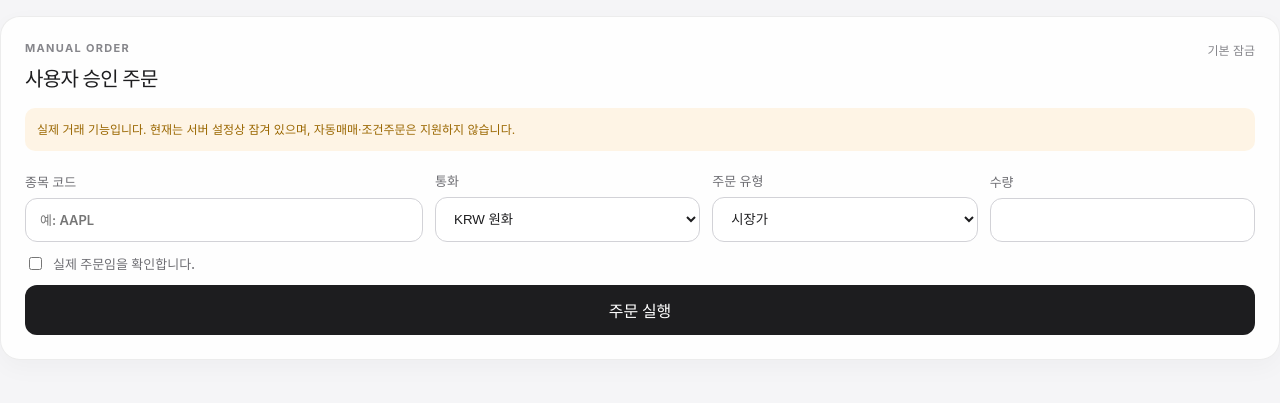
OrderExecutionPanel › requires an explicit confirmation before sending an order request
Step 1. Type "AAPL" into the field named "주문 종목 코드" → (224, 220), box [25, 198, 423, 242]
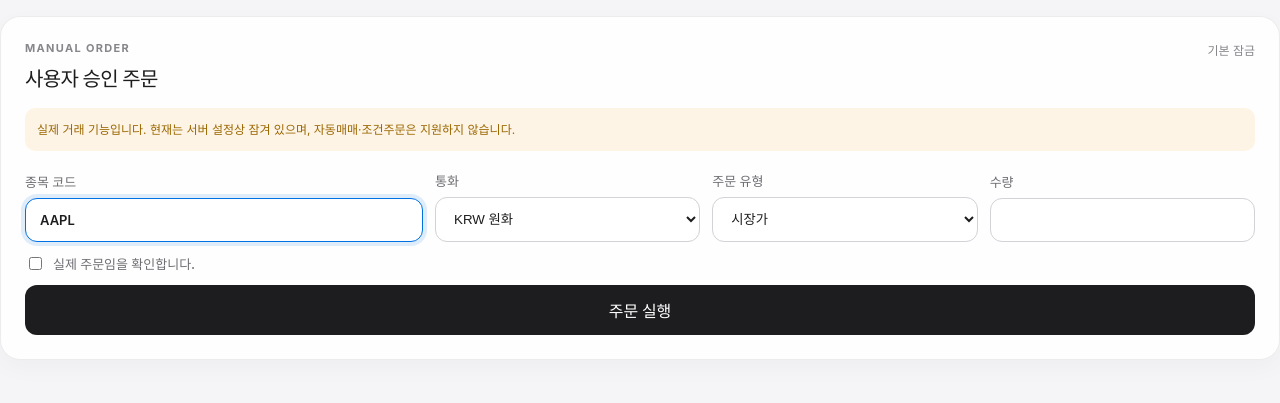
Step 2. Type "1" into the number field named "주문 수량" → (1122, 220), box [990, 198, 1255, 242]
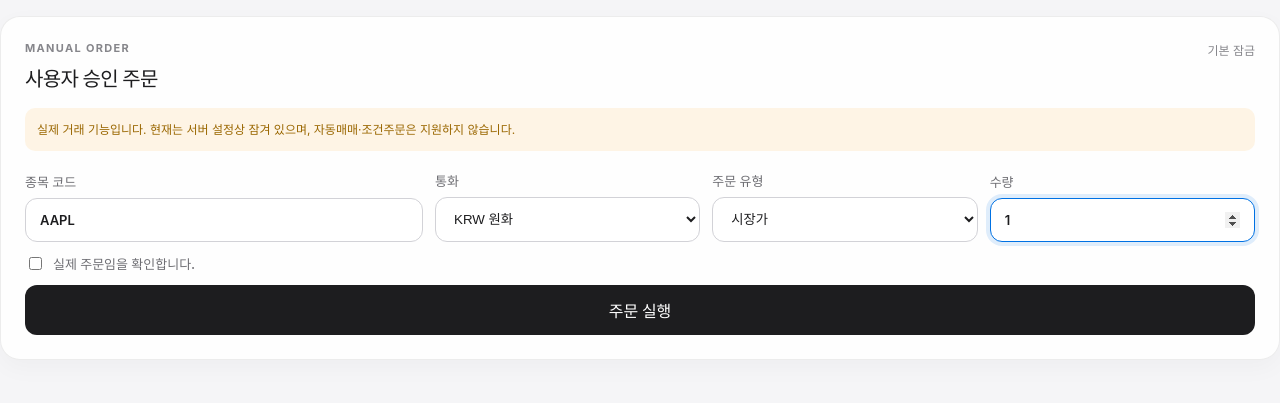
Step 3. Click the button "주문 실행" → (640, 310), box [25, 285, 1255, 335]
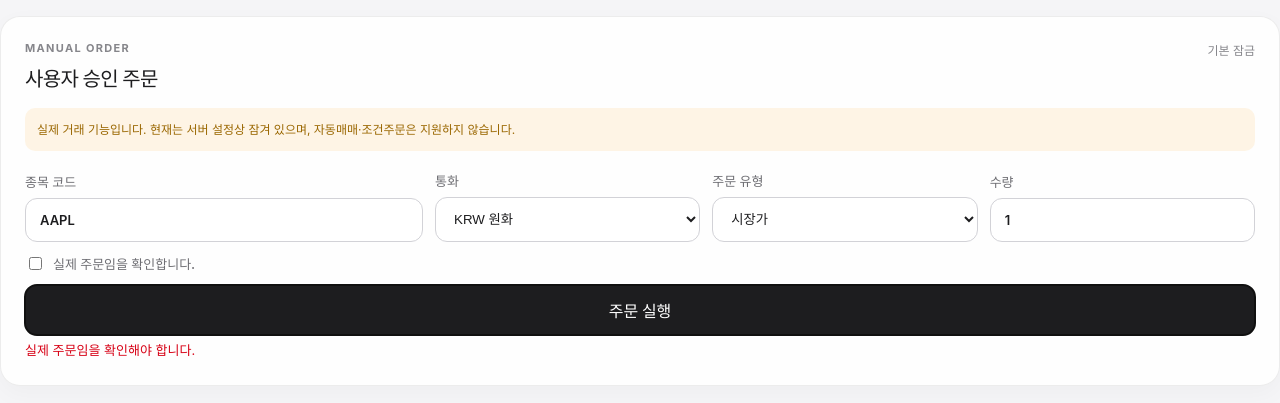
Expected: the message reads "실제 주문임을 확인해야 합니다.", [25, 342, 195, 358]
